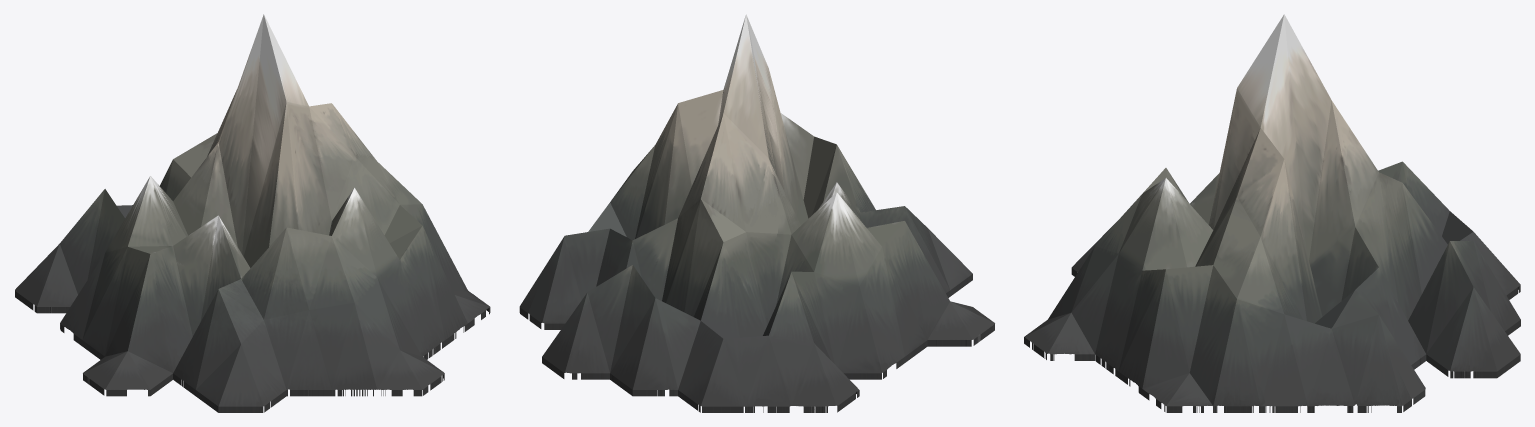
Rendered from mountain_textured.fbx.
3 views of the same model, side by side, from view 1: azimuth 30°, elevation 25°; view 2: azimuth 150°, elevation 25°; view 3: azimuth 270°, elevation 25° (orthographic). The views are drawn at different scales.
Parts seen in each view (by area): view 1: Circle; view 2: Circle; view 3: Circle.
Boxes of the visible parts, x1,y1,x2,y2 form: Circle: (15, 14, 490, 412); Circle: (519, 14, 994, 412); Circle: (1024, 14, 1520, 412).
Size of the model in its own units: 119 by 91.06 by 131.
